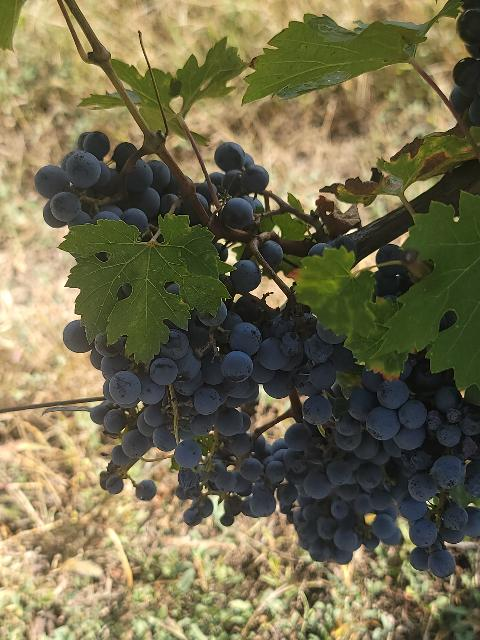grapes: (210, 291, 480, 578), (175, 296, 276, 526), (63, 311, 212, 439), (35, 132, 190, 241)
